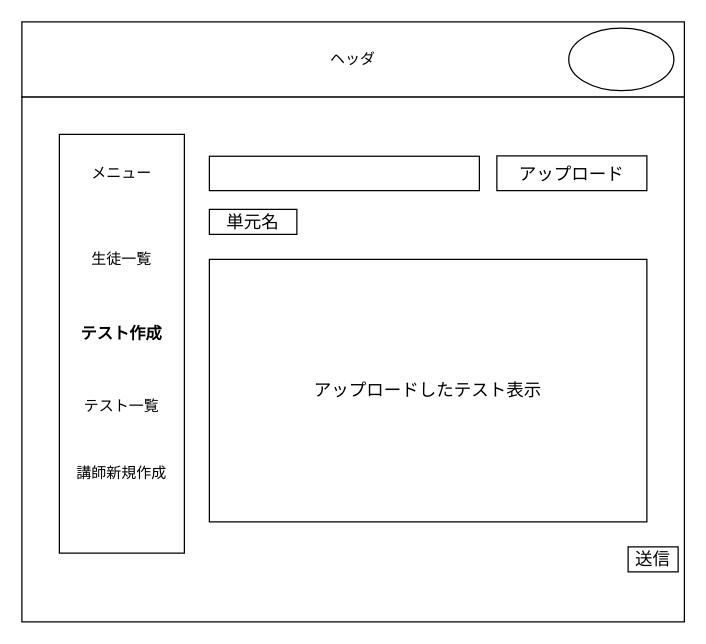
This 706x644 diagram has some shape labels left out. The box of each missing label's shape, as (x1, y1, x2, y2) in pixels:
.xlsx: (208, 155, 479, 191)
●●さん|logout: (568, 27, 674, 91)
